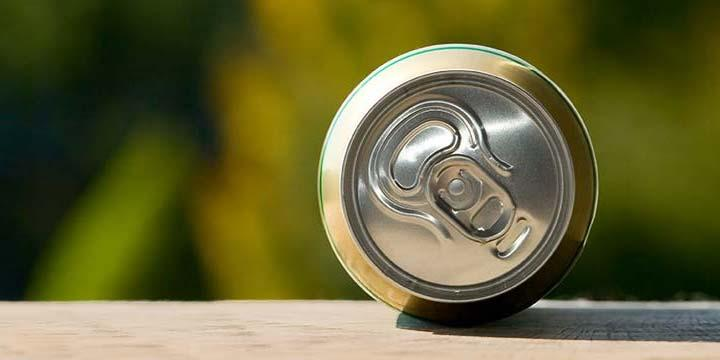metal: (316, 40, 602, 331)
